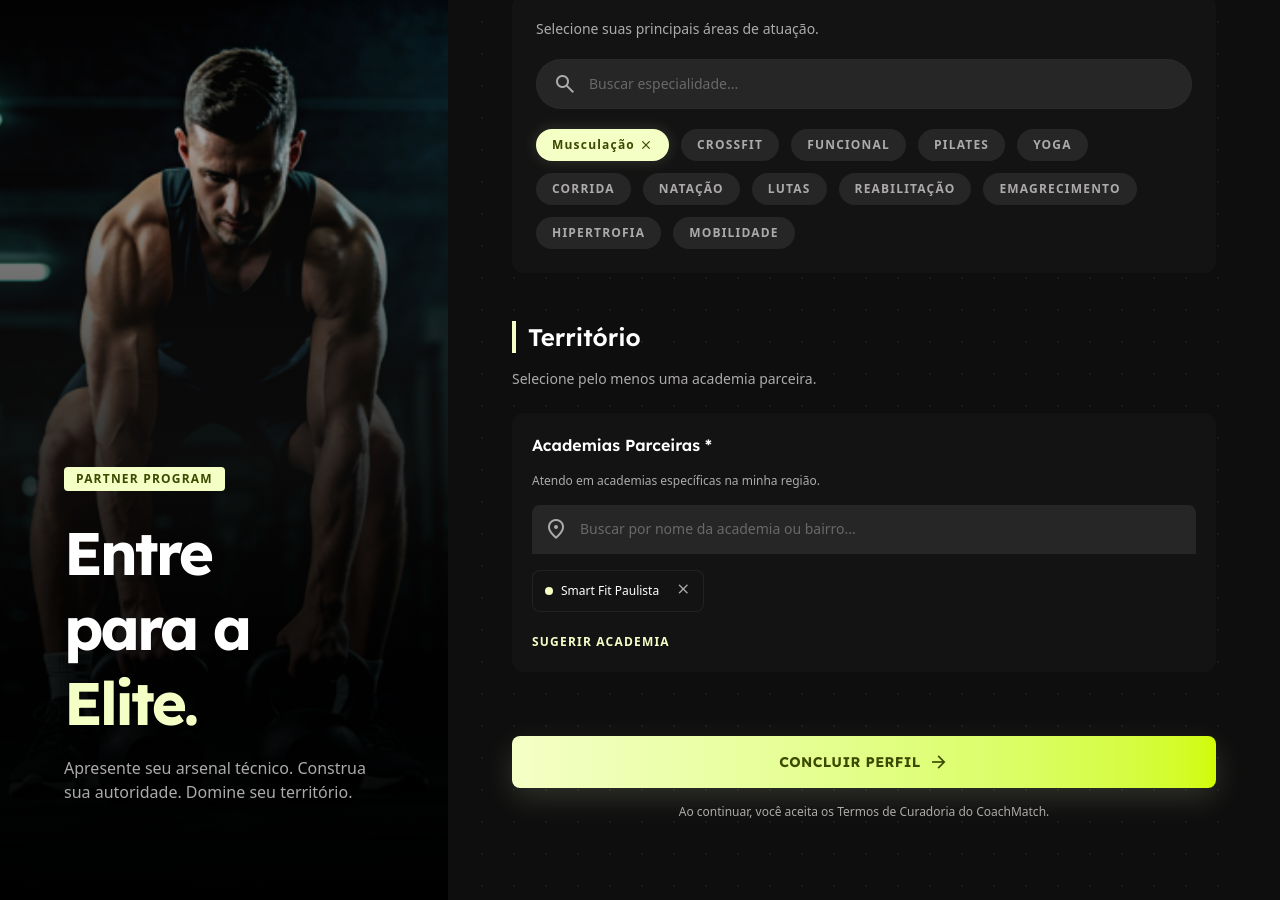
Test: CoachOnboardingPage › mostra erro se PUT do coach falhar
The width and height of the screenshot is (1280, 900).
(page scrolled)
Click the button "CONCLUIR PERFIL": [864, 762] box [512,736,1216,788]
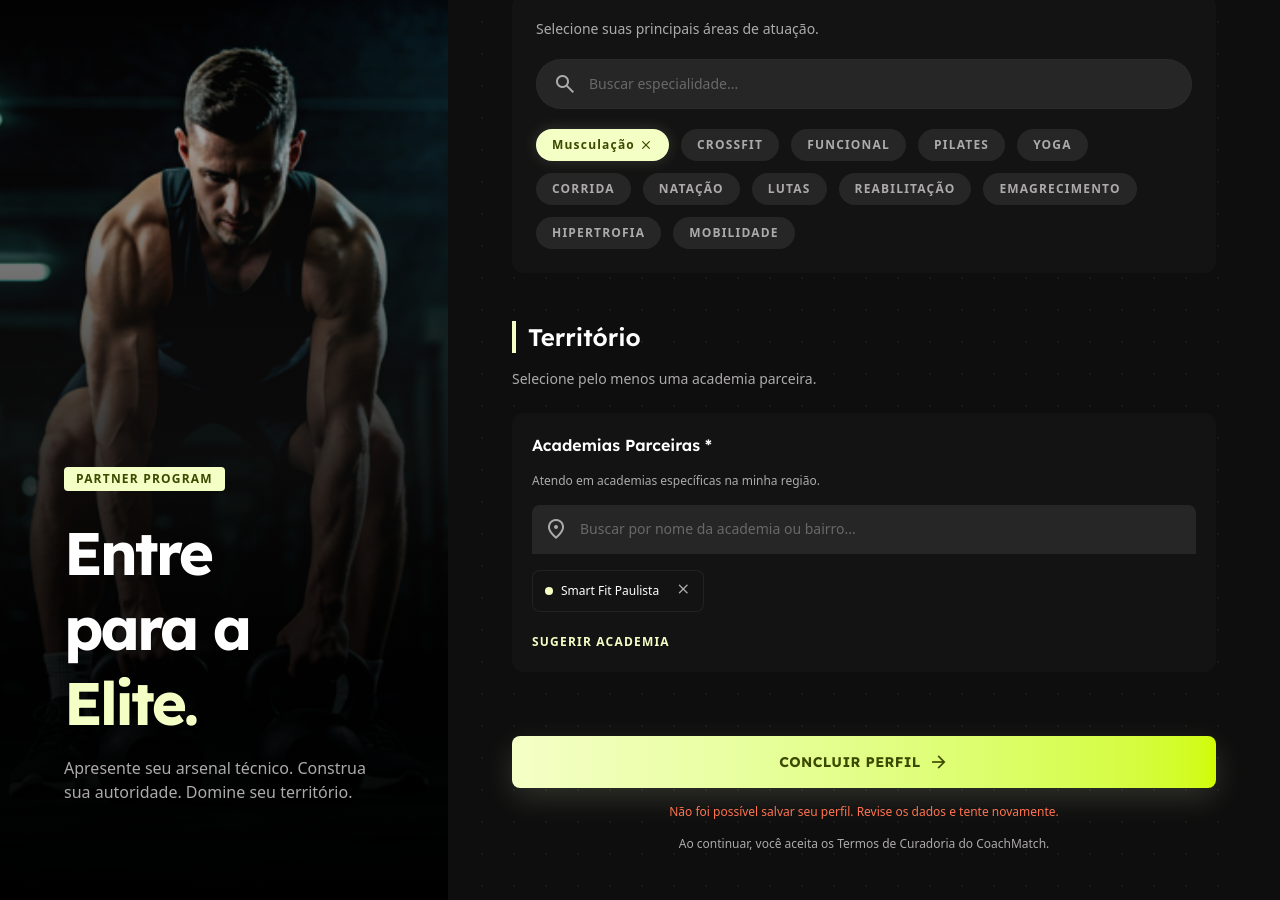
Check: the text "Não foi possível salvar seu perfil" is shown, box [669,803,1059,820]
